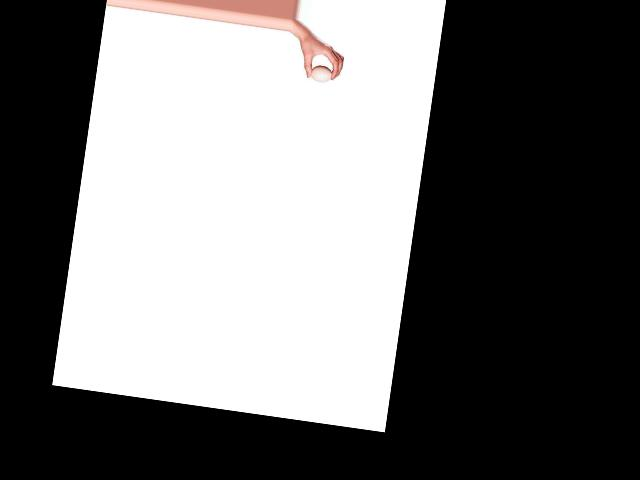egg: (309, 64, 333, 83)
